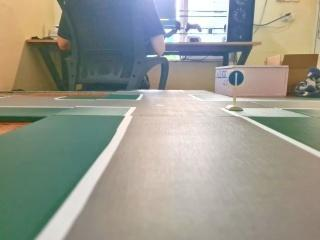straight: (227, 68, 247, 88)
